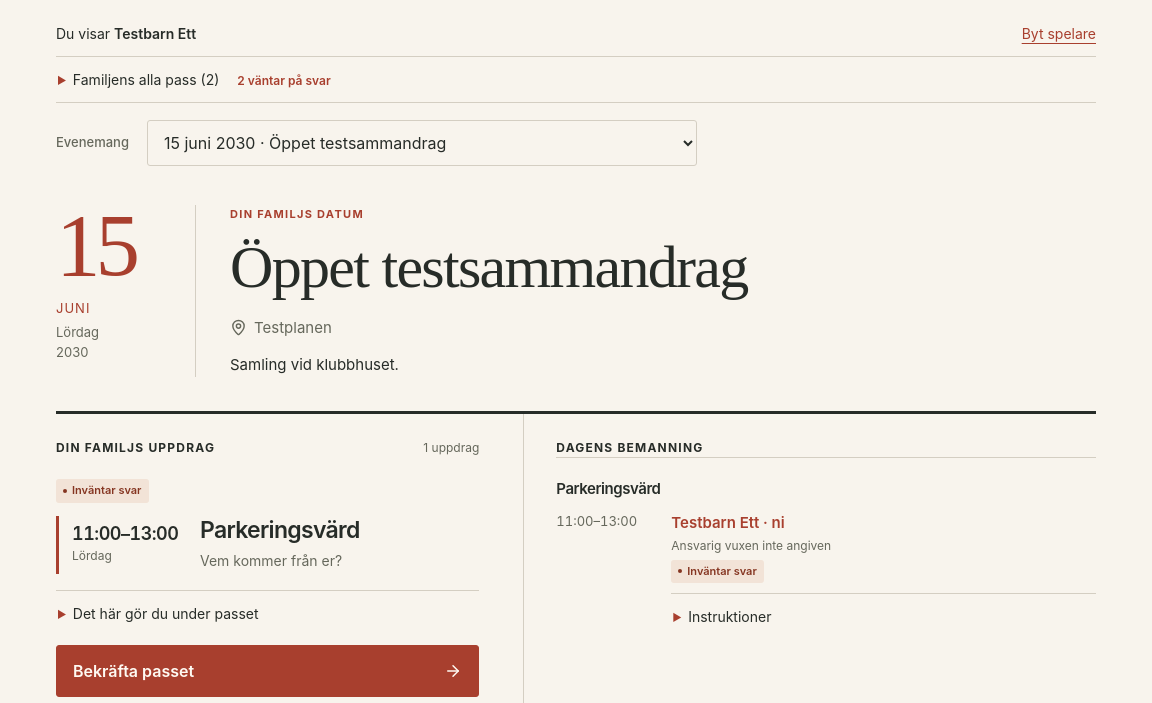
Test: matchday parent view › switches events without losing custom roles, external teams, instructions or phone contacts
Step 1. Select "31 okt. 2030 · Halloween med laget" in the dropdown labelled "Evenemang" → [422, 143], box [147,120,697,166]
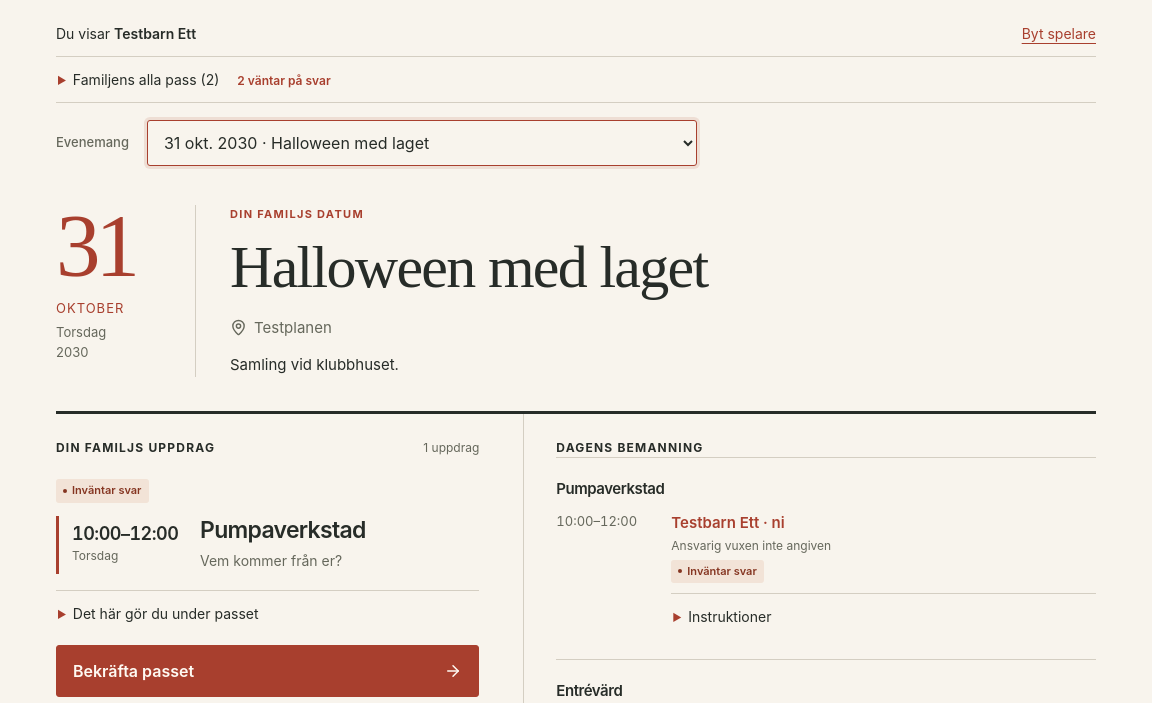
Expected: the button "Bekräfta passet" is shown, [56,645,479,697]
Expected: the heading "Halloween med laget" is shown, [230,234,708,300]
Expected: the heading "Pumpaverkstad" below "Din familjs uppdrag" is shown, [200,516,366,544]
Step 2. Click the heading "Instruktioner" → [730, 617], box [688,608,771,625]
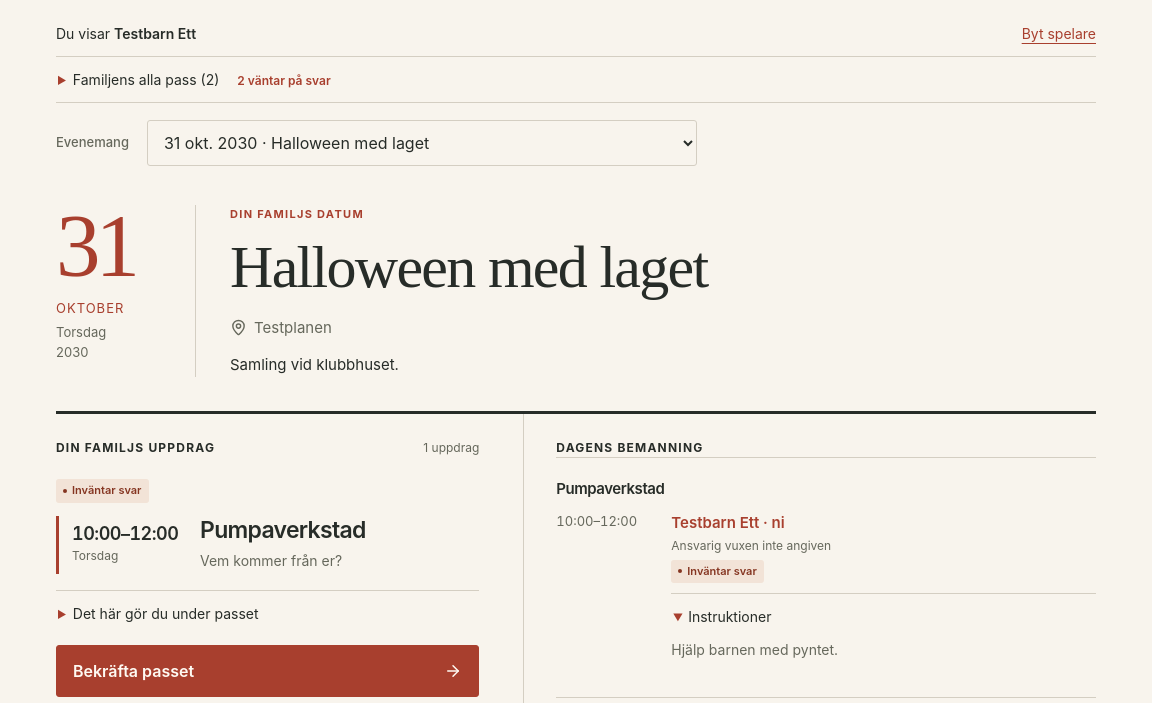
Expected: the text "Hjälp barnen med pyntet." is shown, [671,641,838,658]
